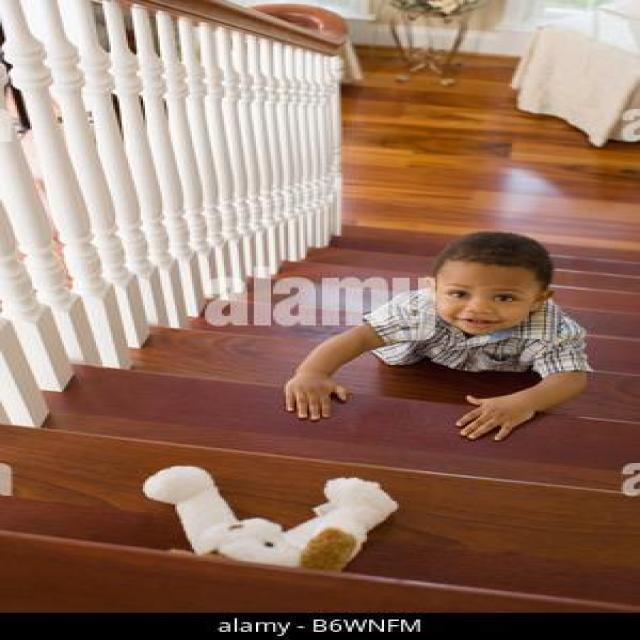child: (273, 222, 602, 450)
